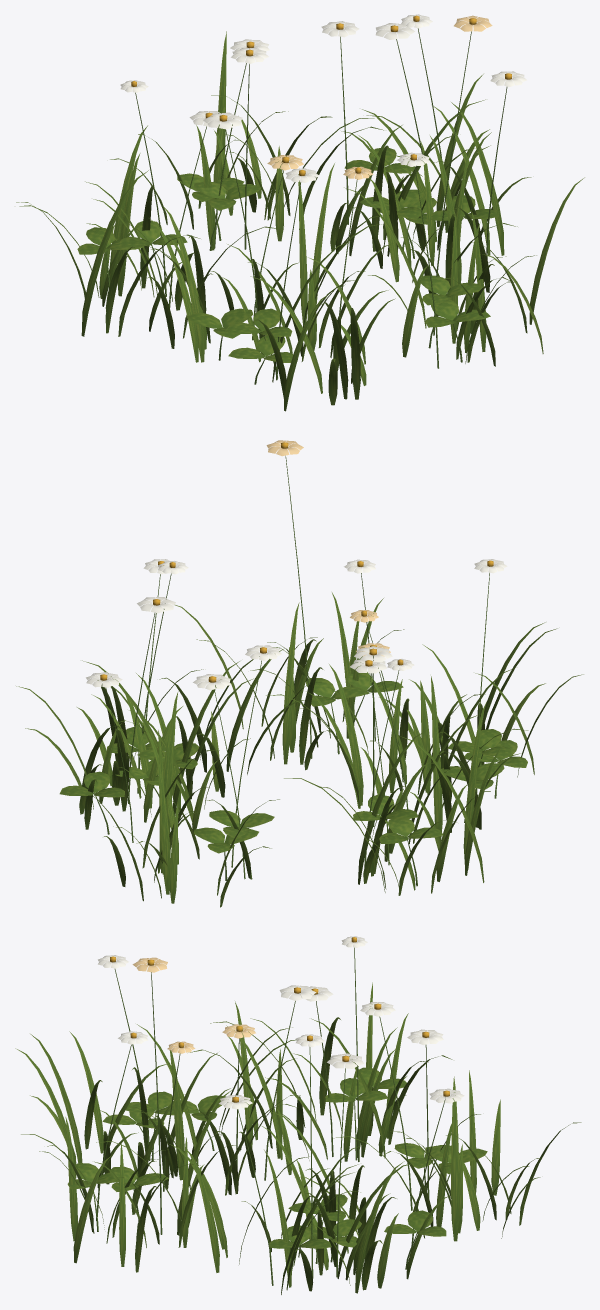
File: m-meadowb.glb
The picture shows the model from 3 angles, top to bottom: view 1: azimuth 30°, elevation 25°; view 2: azimuth 150°, elevation 25°; view 3: azimuth 270°, elevation 25°; orthographic projection. The views are drawn at different scales.
Parts seen in each view (by area): view 1: PatchFoliage, PatchFlowers, PatchStems; view 2: PatchFoliage, PatchFlowers, PatchStems; view 3: PatchFoliage, PatchFlowers, PatchStems.
Part boxes in pixels (box(x1,y1,x2,y2)): PatchFoliage: box(16, 31, 584, 411); PatchFlowers: box(120, 14, 526, 182); PatchStems: box(106, 28, 507, 384); PatchFoliage: box(16, 592, 583, 907); PatchFlowers: box(86, 440, 507, 690); PatchStems: box(95, 456, 498, 886); PatchFoliage: box(15, 982, 581, 1294); PatchFlowers: box(98, 936, 464, 1109); PatchStems: box(93, 947, 450, 1285).
Size of the model in its own units: 0.7763 by 0.48 by 0.8575.
Materials: 3 (1 with a texture image).
